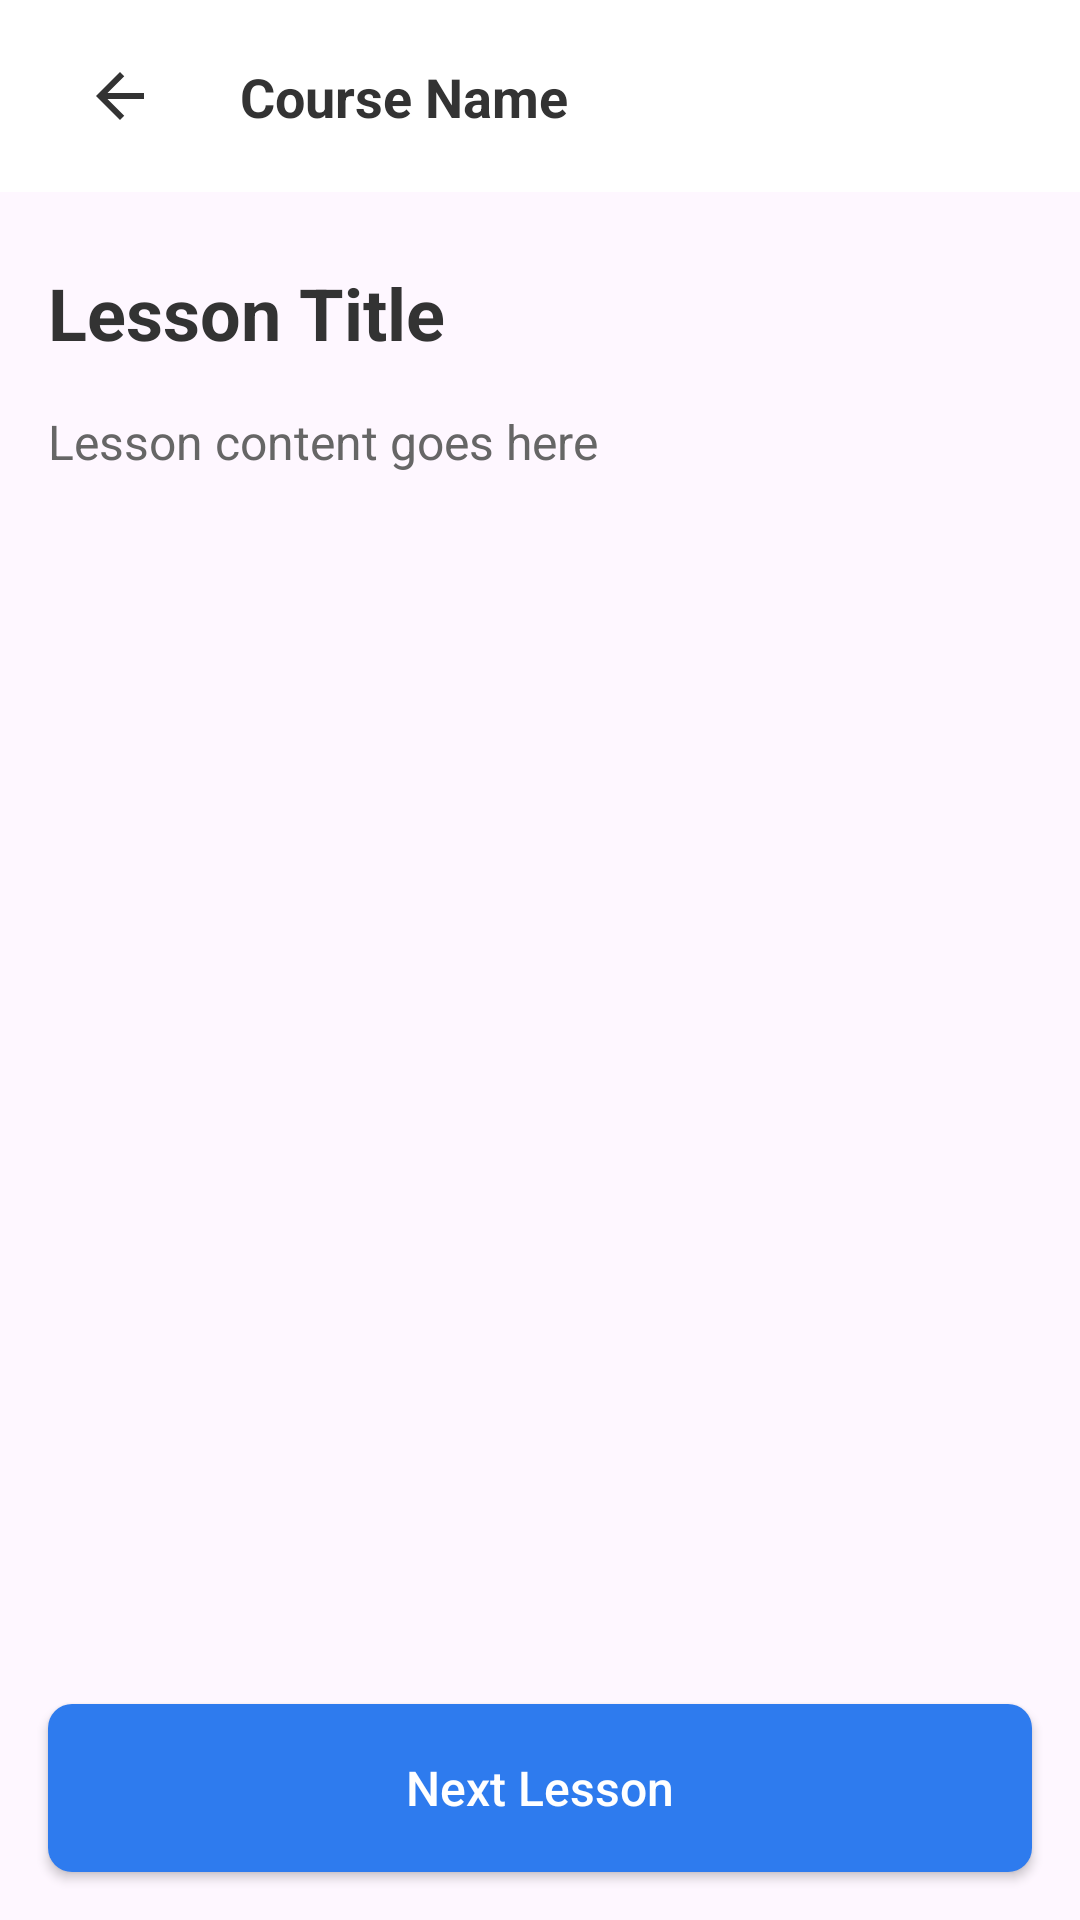

Point at icon controls on the screen. Image size 1080x1920, points as [x,y].
back: [120,96]
